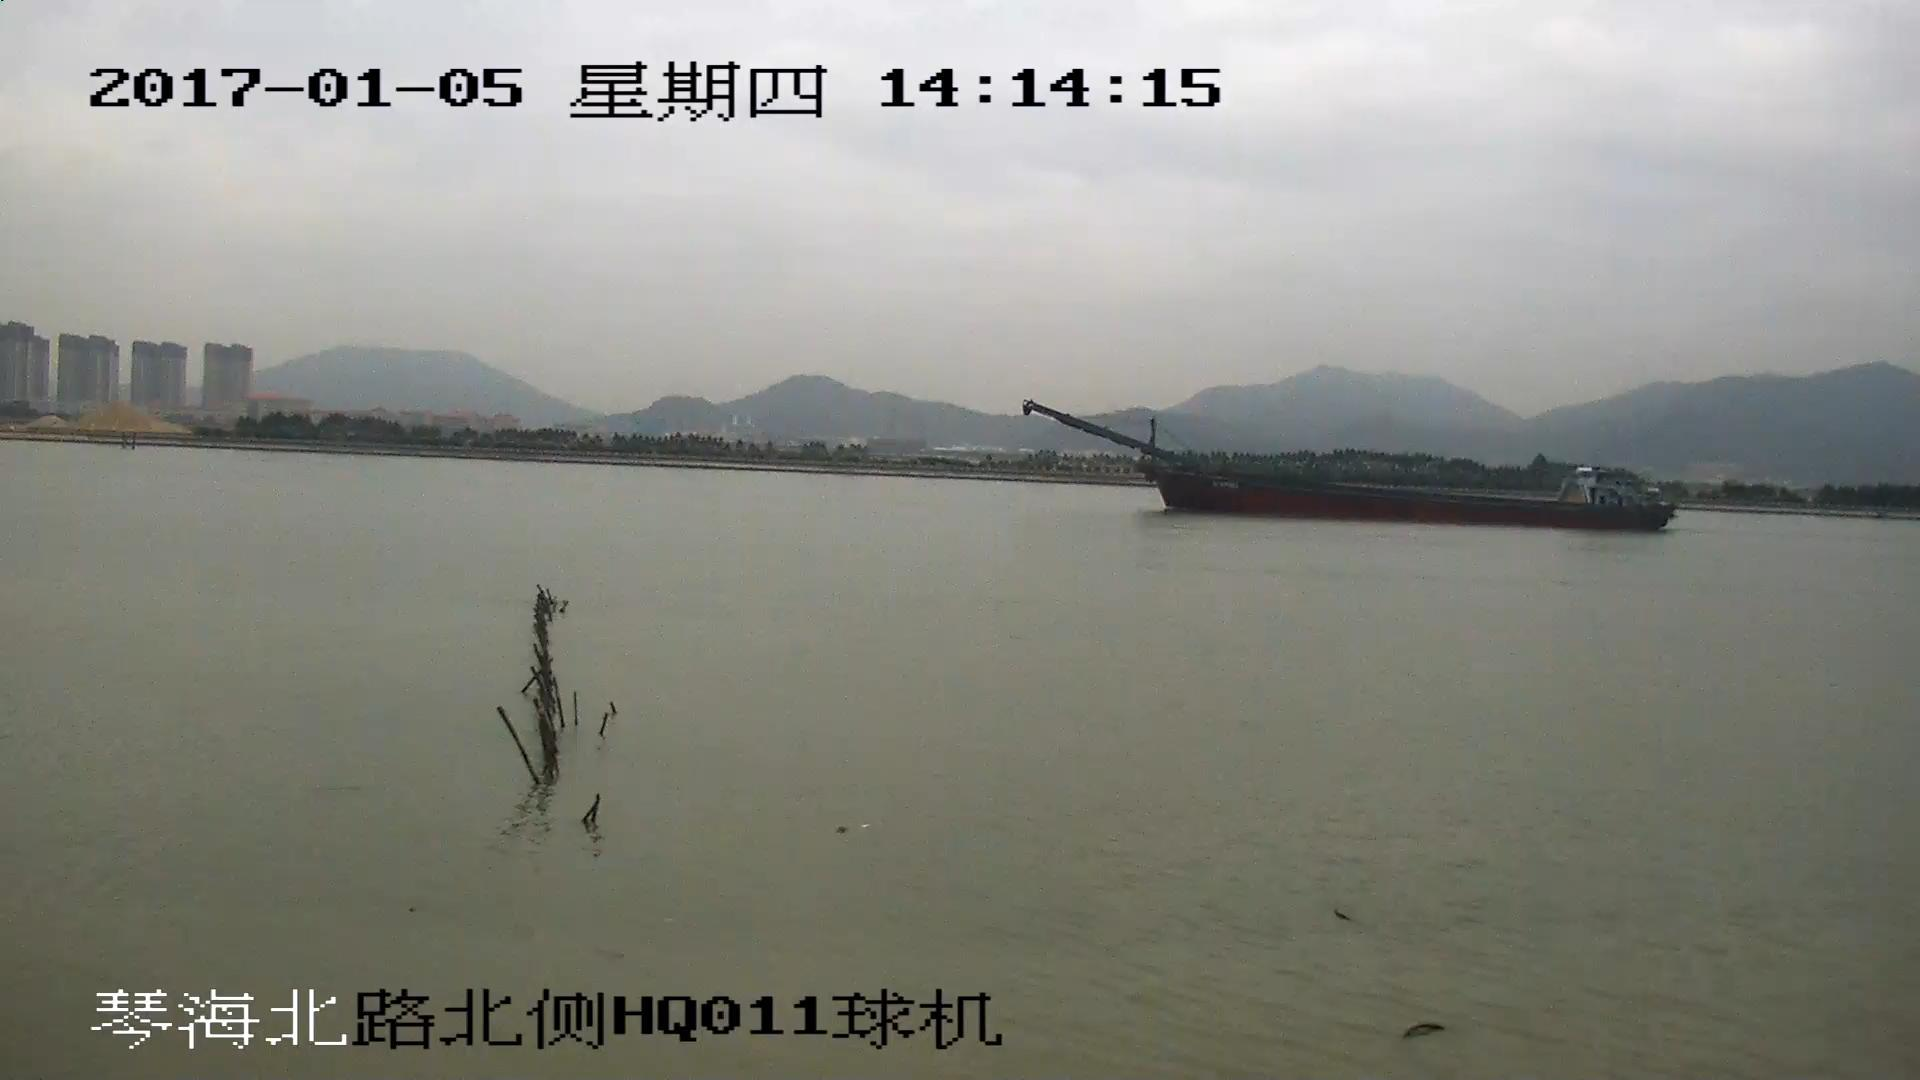Ship: (1030, 404, 1673, 534)
